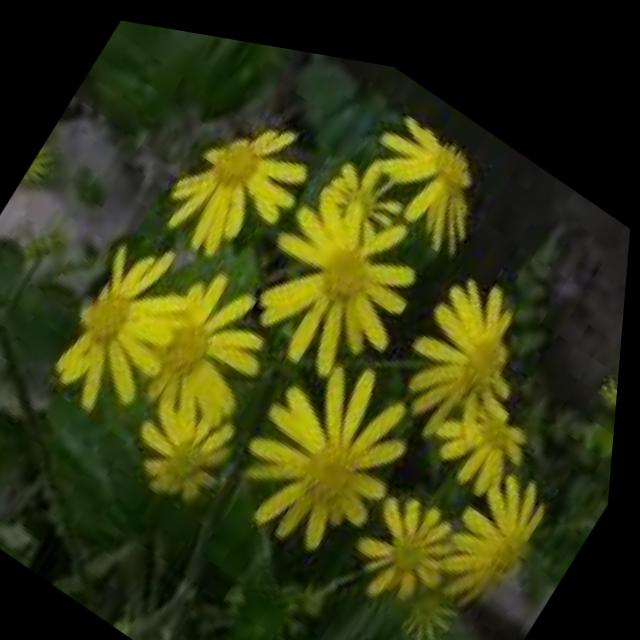Flower: (226, 127, 469, 401), (87, 214, 308, 472), (20, 185, 223, 450), (232, 321, 439, 574), (357, 209, 559, 442), (149, 70, 339, 290), (353, 76, 537, 267), (416, 419, 572, 604), (406, 328, 558, 498), (128, 369, 272, 527), (348, 459, 476, 619), (381, 532, 483, 640)
